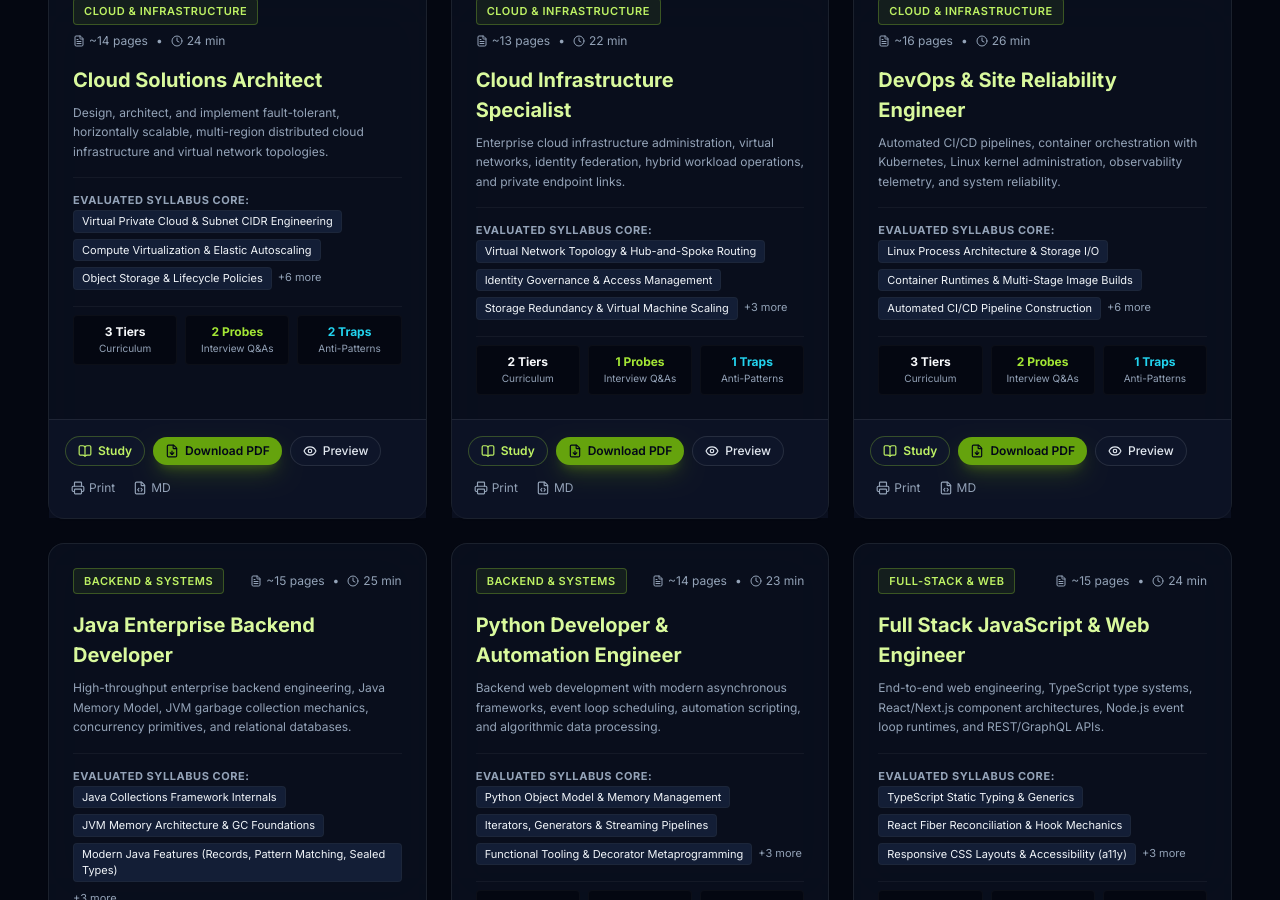
Test case: RoleHandbooksPage Component › opens and closes the online preview modal with tab switching
(page scrolled)
# Click preview on first card
Step 1. Click the button with aria-label "Preview handbook for" → (336, 450), box left=290, top=436, right=381, bottom=466
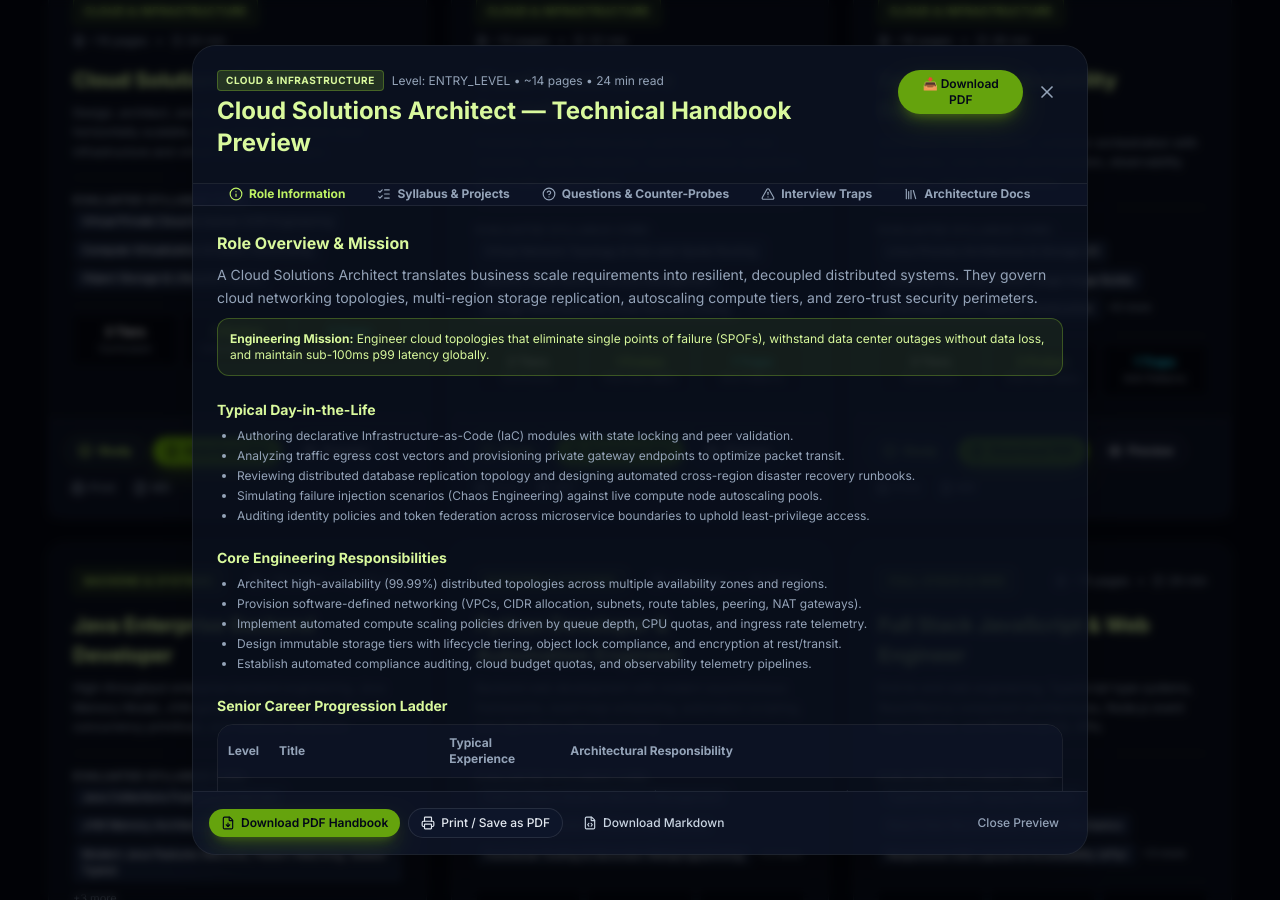
Result: the dialog is shown
Result: the heading "Cloud Solutions Architect — Technical Handbook Preview" is shown at left=217, top=95, right=882, bottom=159
# Switch to Syllabus tab
Step 2. Click the button "Syllabus & Projects" → (444, 194), box left=365, top=174, right=522, bottom=216
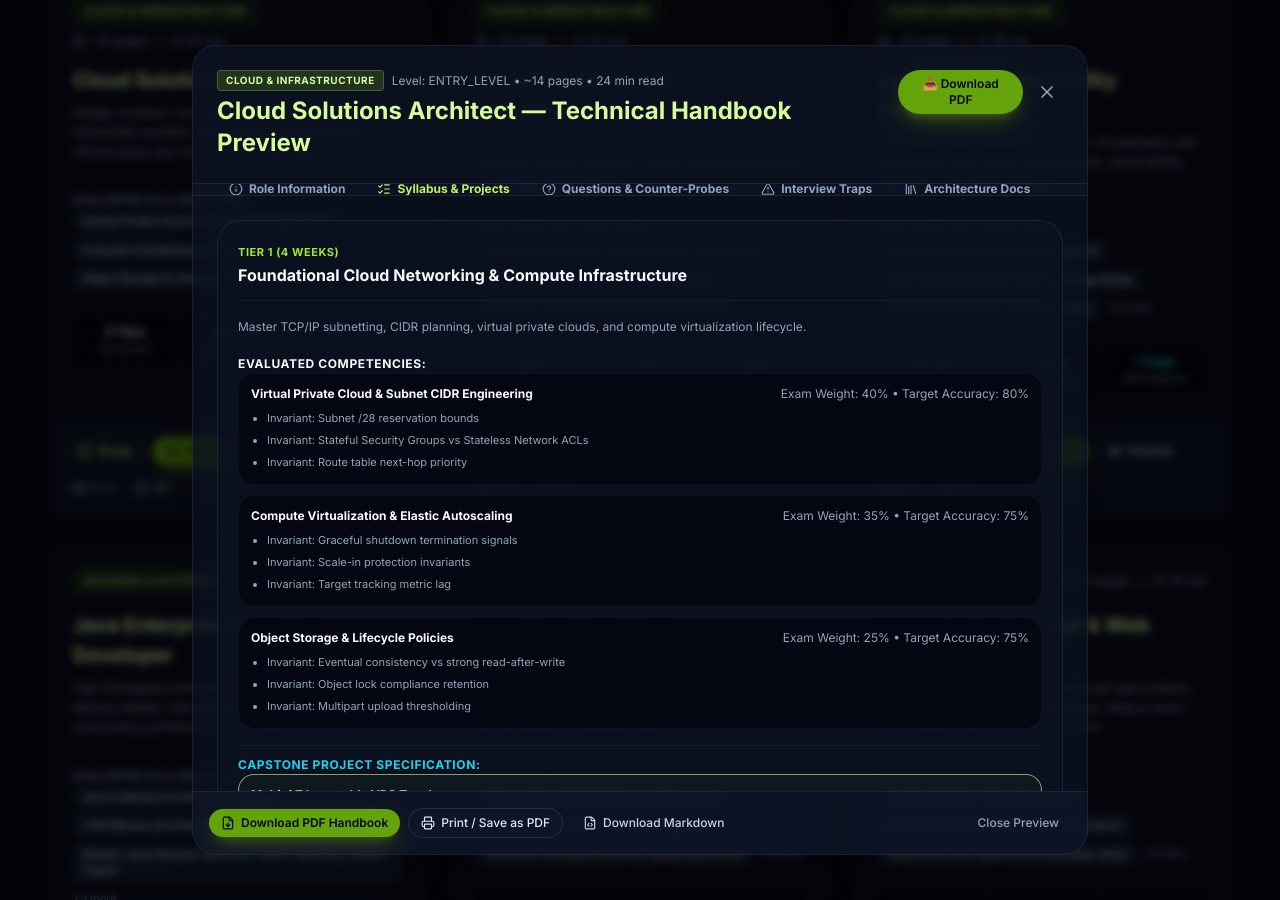
Result: the text "Evaluated Competencies:" is shown at left=238, top=356, right=426, bottom=371
# Switch to Questions tab
Step 3. Click the button "Questions & Counter-Probes" → (635, 190), box left=530, top=168, right=741, bottom=210
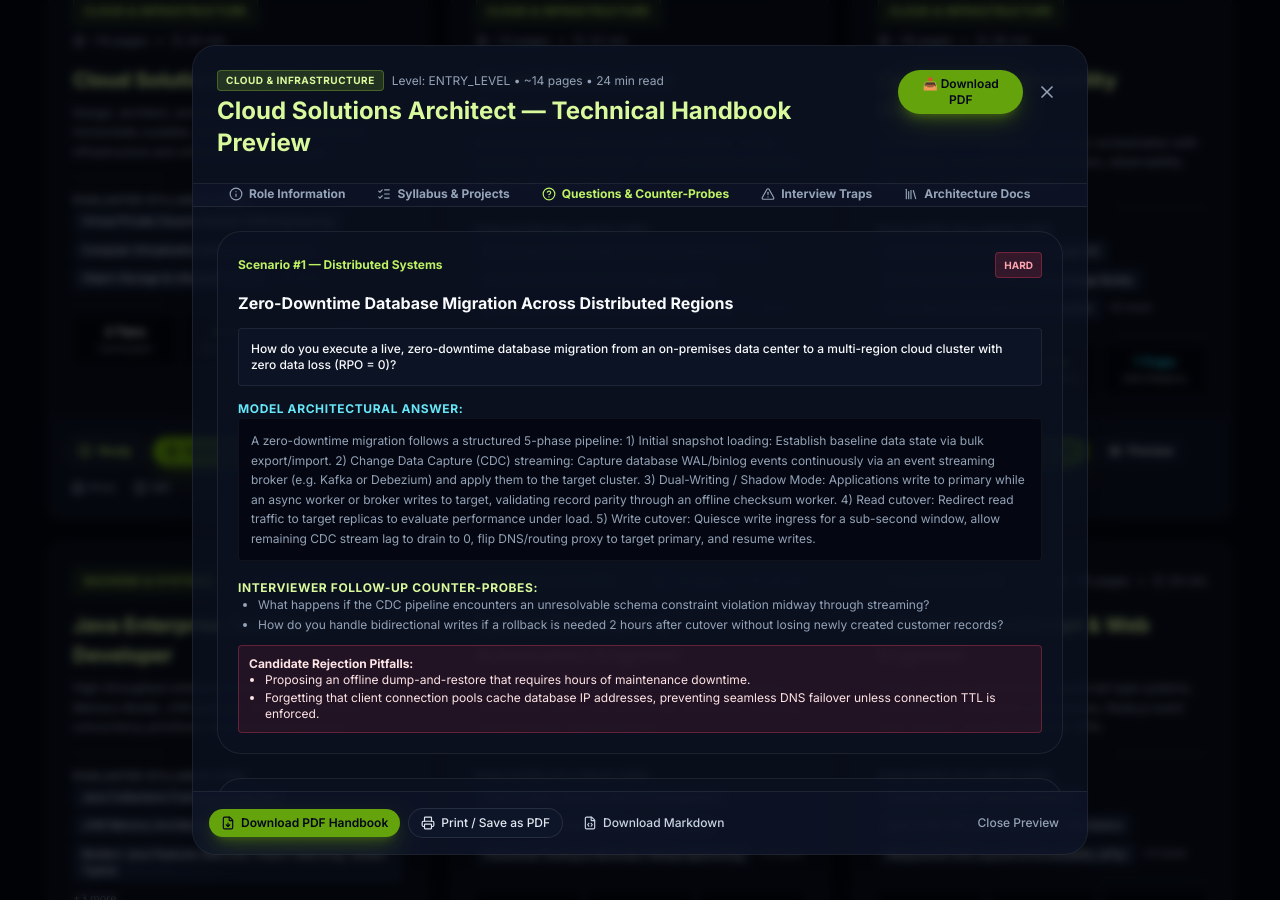
Result: the text "Model Architectural Answer:" is shown at left=238, top=401, right=463, bottom=416
# Close preview modal
Step 4. Click the button "Close Preview" → (1018, 823), box left=966, top=809, right=1071, bottom=837
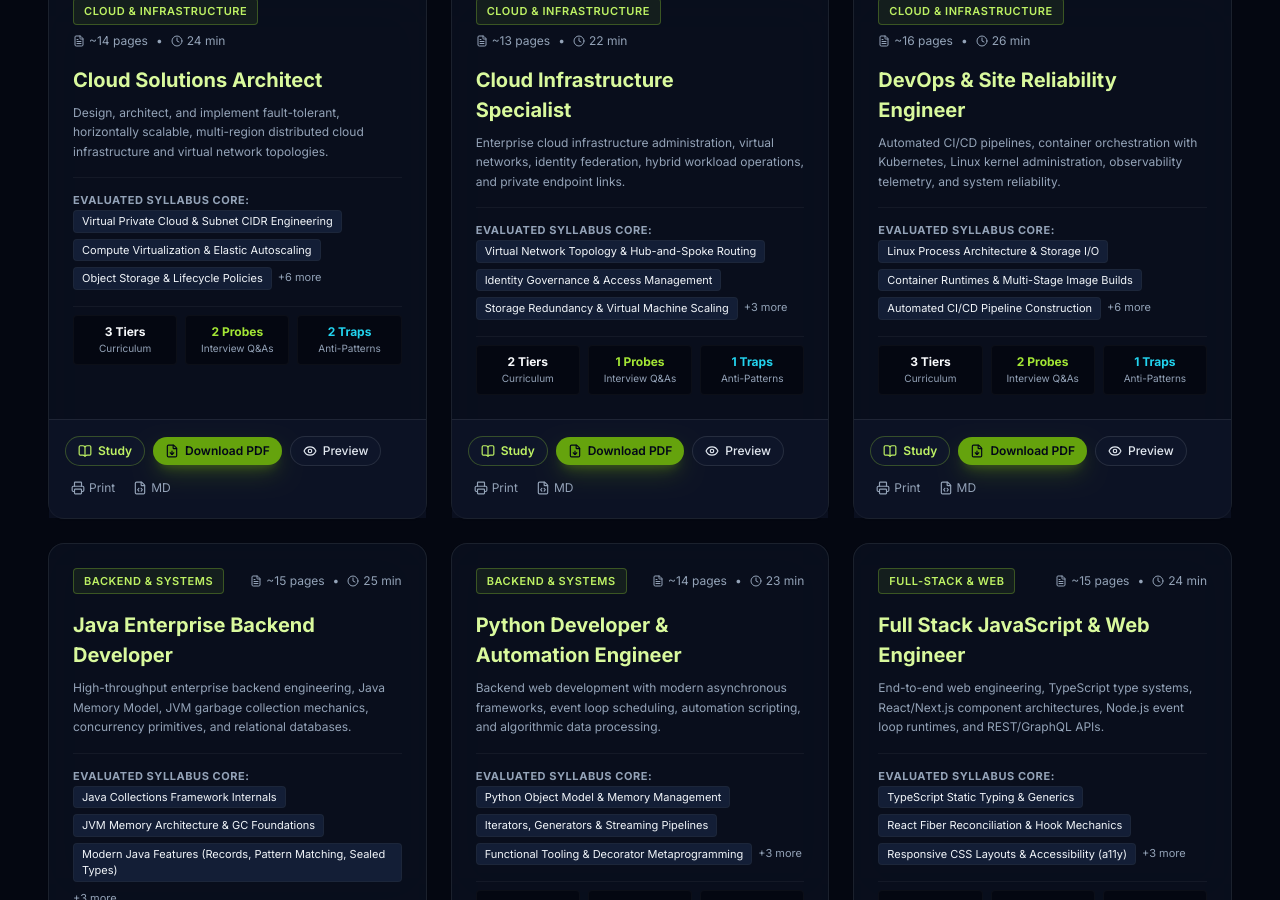
Result: the dialog is gone
